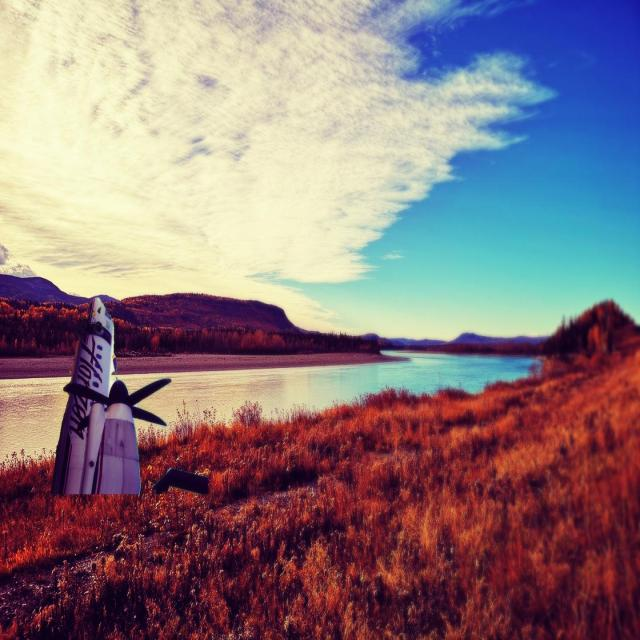airplane: (52, 295, 172, 500)
